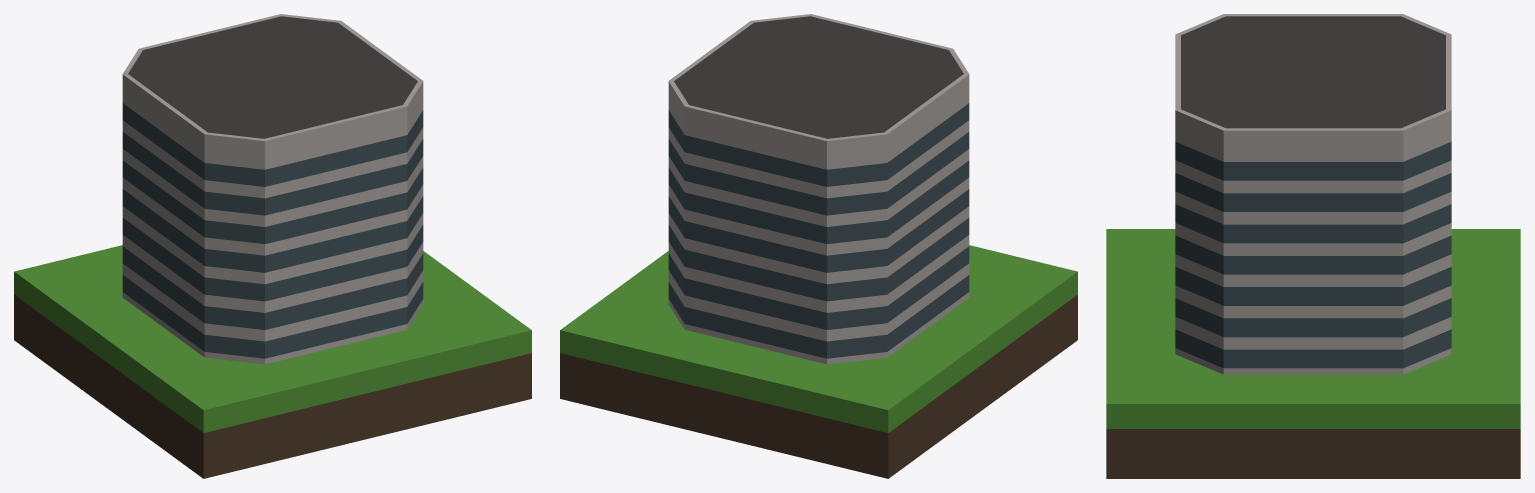
Rendered from tiles_skyscraper-small.fbx.
3 renders of one model, left to right at view 1: azimuth 30°, elevation 25°; view 2: azimuth 150°, elevation 25°; view 3: azimuth 270°, elevation 25°, orthographic. The views are drawn at different scales.
Visible parts, largest first — view 1: tiles_skyscraper_small; view 2: tiles_skyscraper_small; view 3: tiles_skyscraper_small.
Boxes of the visible parts, x1,y1,x2,y2 form: tiles_skyscraper_small: [14, 14, 531, 478]; tiles_skyscraper_small: [560, 14, 1077, 478]; tiles_skyscraper_small: [1106, 14, 1520, 478].
Size of the model in its own units: 200 by 170 by 200.
